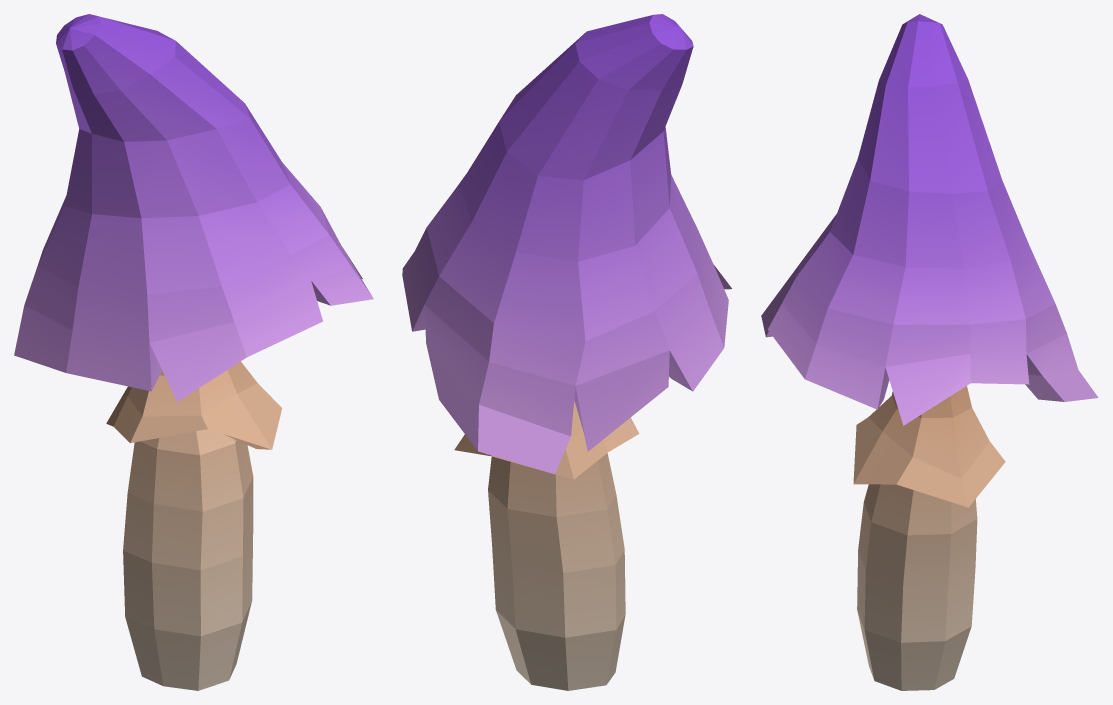
Rendered from dm11.mushroom.sm.v1.01.glb.
3 renders of one model, left to right at view 1: azimuth 30°, elevation 25°; view 2: azimuth 150°, elevation 25°; view 3: azimuth 270°, elevation 25°, orthographic. The views are drawn at different scales.
Visible parts, largest first — view 1: PP_Mushroom_Fantasy_Purple_08.001_PP_Standard_Material_0; view 2: PP_Mushroom_Fantasy_Purple_08.001_PP_Standard_Material_0; view 3: PP_Mushroom_Fantasy_Purple_08.001_PP_Standard_Material_0.
Boxes of the visible parts, bbox=[...] form: PP_Mushroom_Fantasy_Purple_08.001_PP_Standard_Material_0: bbox=[14, 14, 373, 690]; PP_Mushroom_Fantasy_Purple_08.001_PP_Standard_Material_0: bbox=[402, 14, 731, 690]; PP_Mushroom_Fantasy_Purple_08.001_PP_Standard_Material_0: bbox=[761, 14, 1098, 690].
Bounding box in the file's own units: 0.1454 × 0.2937 × 0.1467.
1 material, 1 textured.
